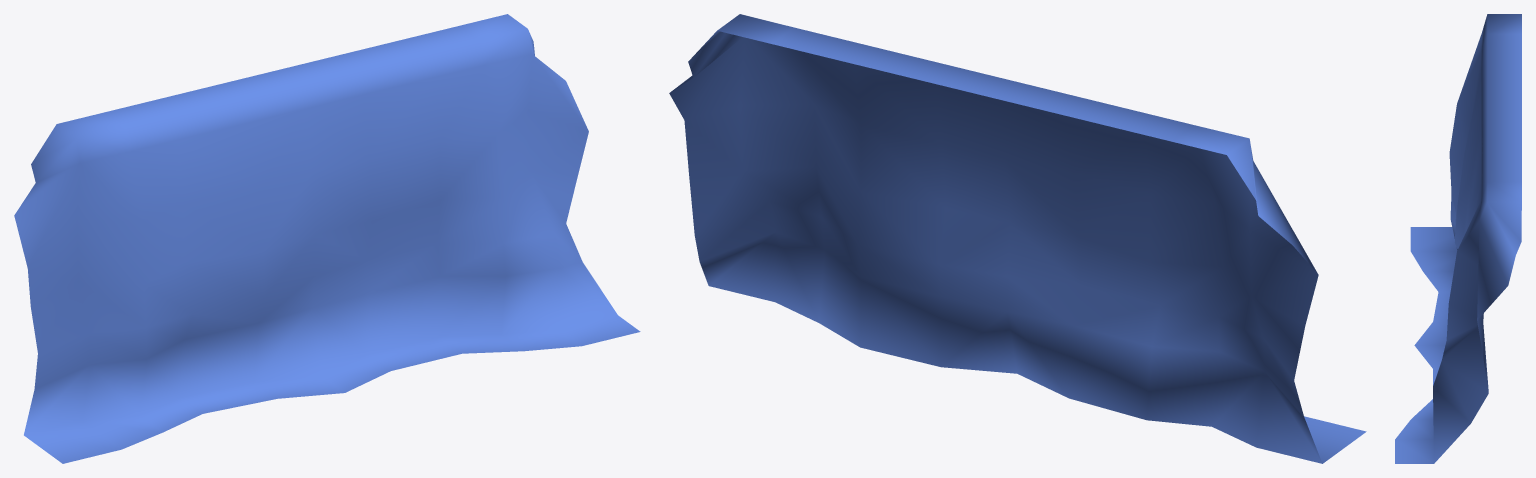
The model's file is Tarp.fbx.
The picture shows the model from 3 angles, left to right: view 1: azimuth 30°, elevation 25°; view 2: azimuth 150°, elevation 25°; view 3: azimuth 270°, elevation 25°; orthographic projection. The views are drawn at different scales.
Visible parts, largest first — view 1: Plane.002; view 2: Plane.002; view 3: Plane.002.
Boxes of the visible parts, <box> form: Plane.002: <box>14,14,640,463</box>; Plane.002: <box>669,14,1366,463</box>; Plane.002: <box>1395,14,1521,463</box>.
Bounding box in the file's own units: 1004 × 469 × 227.
